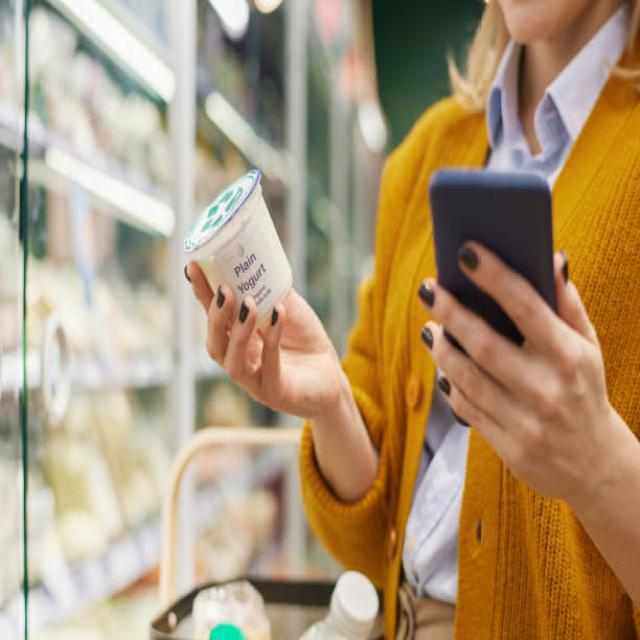article: (184, 169, 292, 325)
hands: (422, 240, 639, 604), (188, 264, 376, 499)
